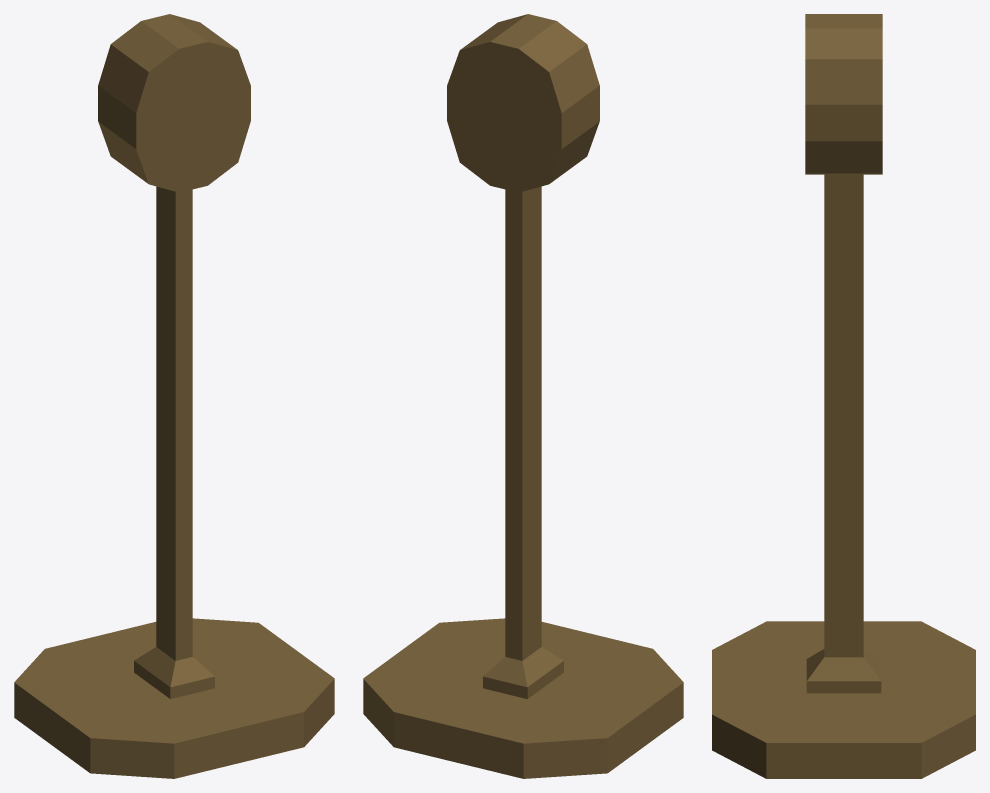
File: HarpoonGunStand.fbx
The picture shows the model from 3 angles, left to right: view 1: azimuth 30°, elevation 25°; view 2: azimuth 150°, elevation 25°; view 3: azimuth 270°, elevation 25°; orthographic projection.
Visible parts, largest first — view 1: Stand; view 2: Stand; view 3: Stand.
Boxes of the visible parts, <box> form: Stand: <box>14,14,334,778</box>; Stand: <box>363,14,683,778</box>; Stand: <box>712,14,975,778</box>.
Size of the model in its own units: 153 by 409 by 140.
1 material, 1 textured.
